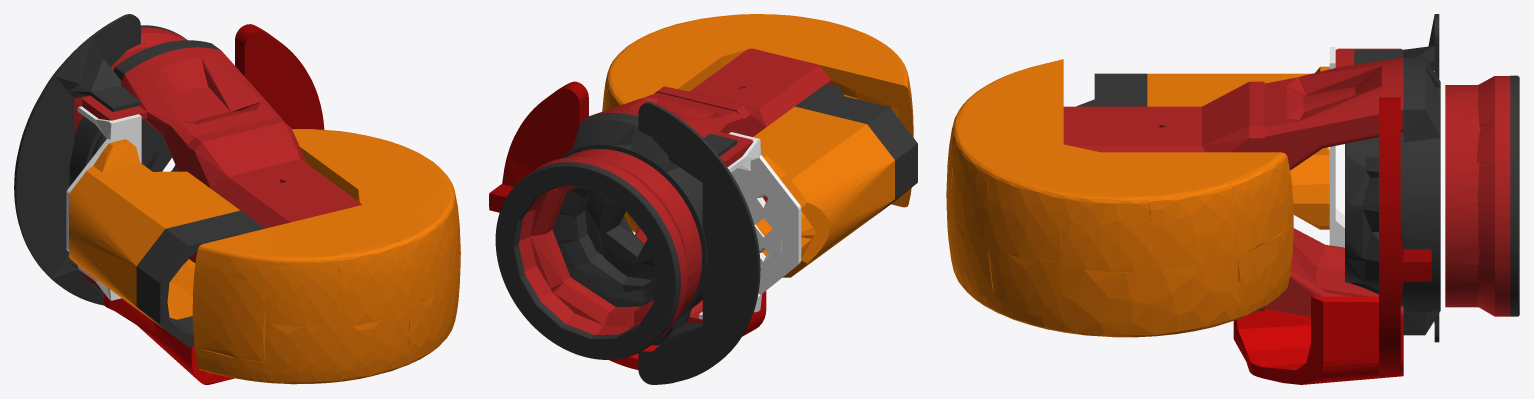
The model's file is LARM_LINK4_mesh.dae.
3 renders of one model, left to right at view 1: azimuth 30°, elevation 25°; view 2: azimuth 150°, elevation 25°; view 3: azimuth 270°, elevation 25°, orthographic. The views are drawn at different scales.
Parts seen in each view (by area): view 1: LARM_LINK4 (×13); view 2: LARM_LINK4 (×13); view 3: LARM_LINK4 (×13).
Boxes of the visible parts, x1,y1,x2,y2 form: LARM_LINK4 (×13): [14, 14, 460, 384]; LARM_LINK4 (×13): [489, 14, 917, 384]; LARM_LINK4 (×13): [946, 14, 1519, 384].
Bounding box in the file's own units: 0.121 × 0.121 × 0.1855.
